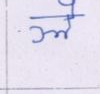ai_matra: (59, 0, 79, 14)
